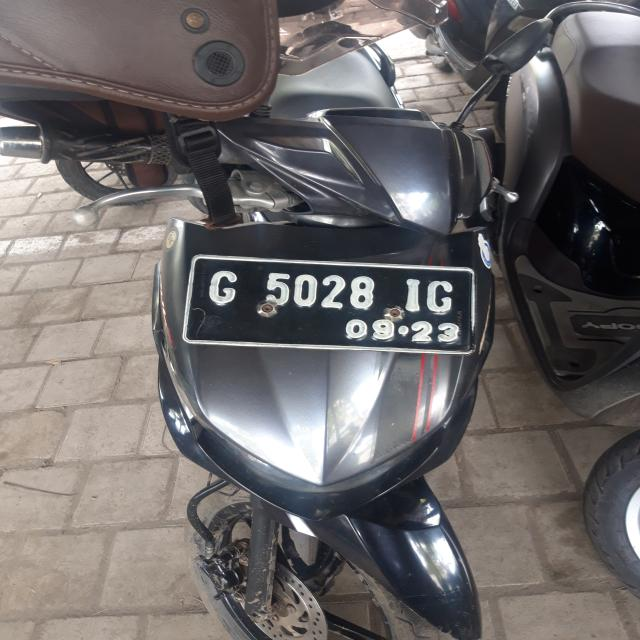plate: (186, 255, 477, 356)
